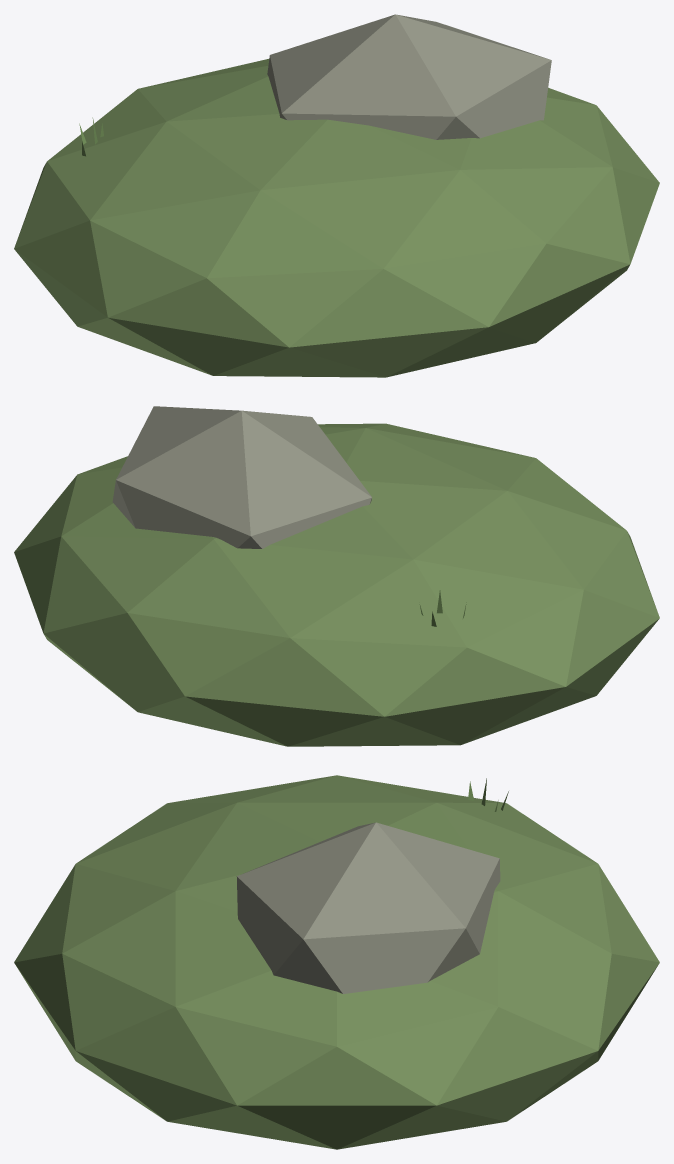
The model's file is hill.glb.
3 views of the same model, one above another, from view 1: azimuth 30°, elevation 25°; view 2: azimuth 150°, elevation 25°; view 3: azimuth 270°, elevation 25° (orthographic). The views are drawn at different scales.
Visible parts, largest first — view 1: hill · grass_dark, hill · stone; view 2: hill · grass_dark, hill · stone; view 3: hill · grass_dark, hill · stone.
Boxes of the visible parts, bbox=[...] form: hill · grass_dark: bbox=[14, 59, 659, 377]; hill · stone: bbox=[267, 14, 551, 139]; hill · grass_dark: bbox=[14, 423, 659, 746]; hill · stone: bbox=[112, 406, 371, 548]; hill · grass_dark: bbox=[14, 775, 659, 1149]; hill · stone: bbox=[236, 822, 500, 993].
Bounding box in the file's own units: 0.8179 × 0.3897 × 0.78.
